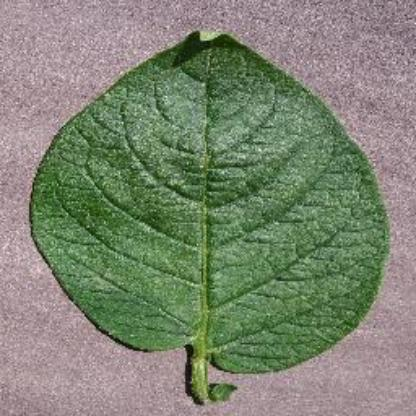Healthy-plant: (26, 27, 394, 403)
